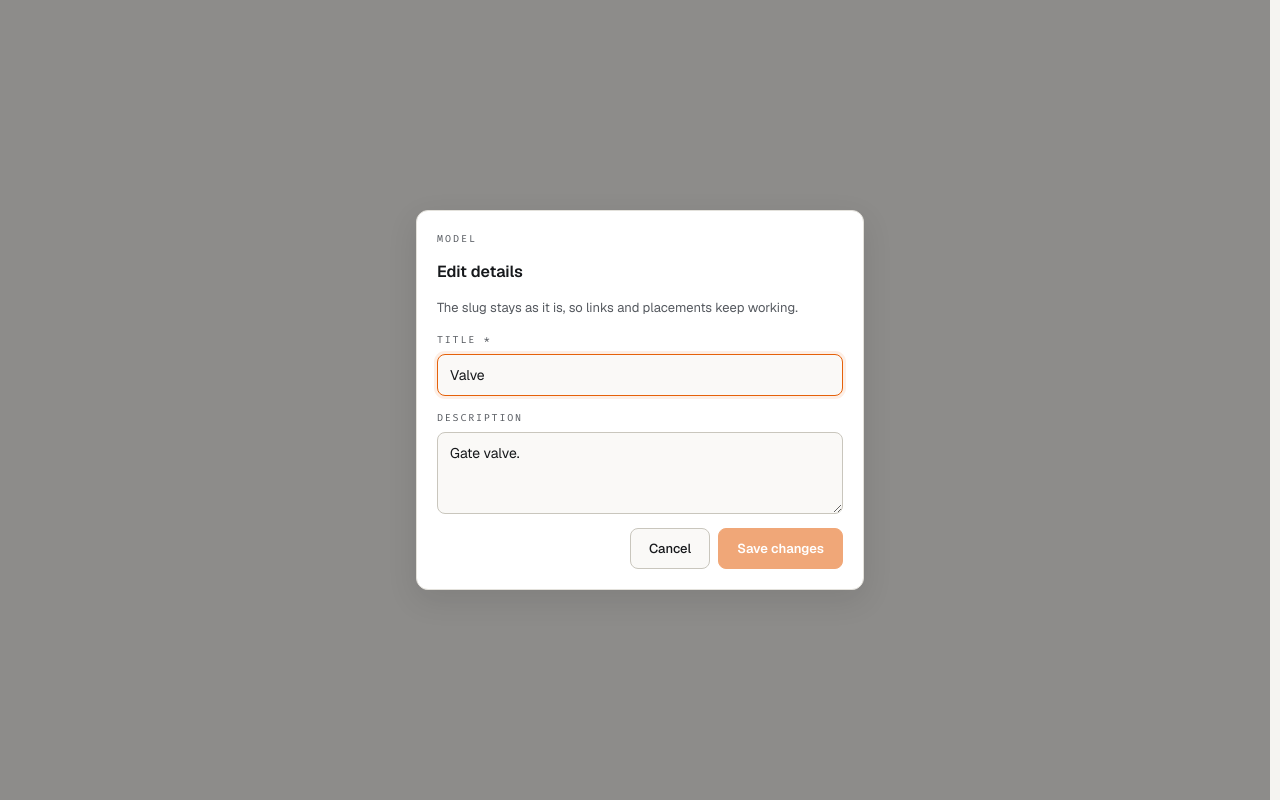
Test: EditDetailsDialog › keeps the dialog open and says why when the gateway refuses
Type "!" into the field labelled "Title *" at (640, 375), box [437, 354, 843, 396]
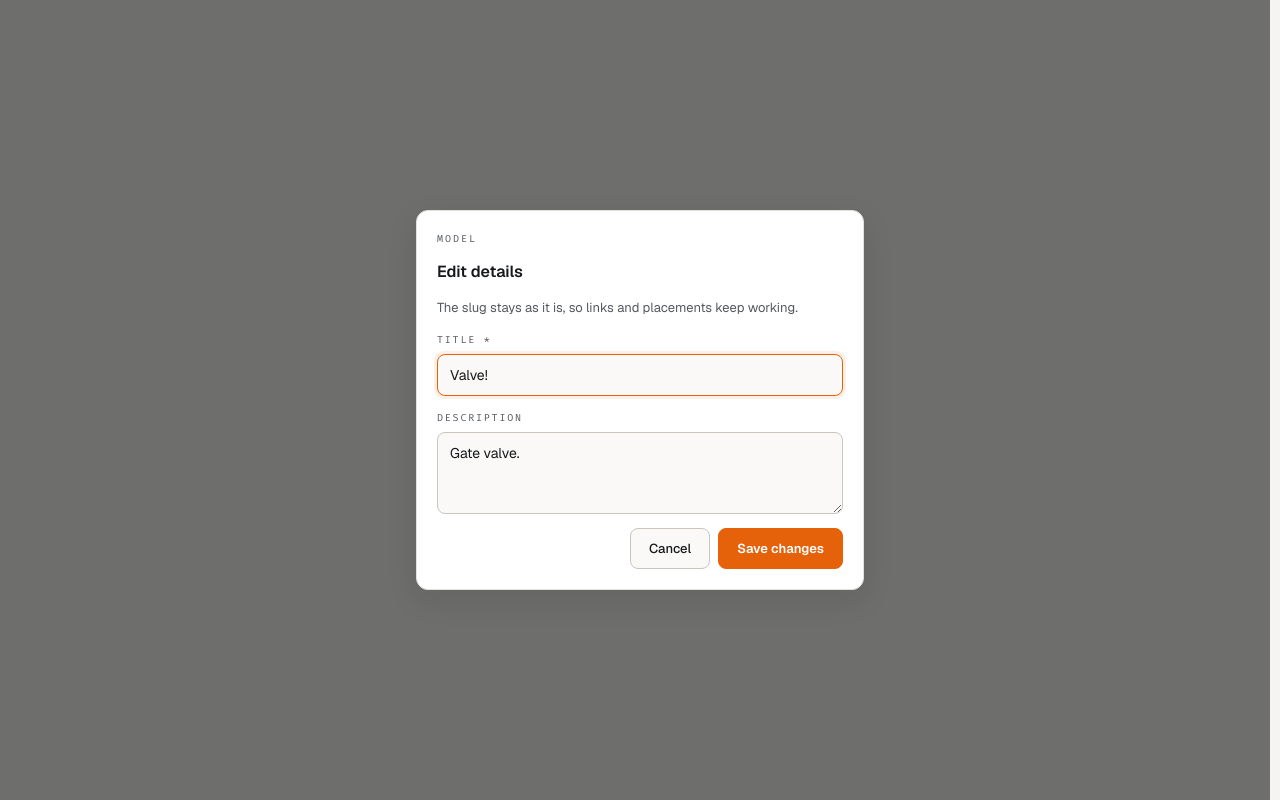
Click the button "Save changes" at (781, 549), box [718, 528, 843, 569]
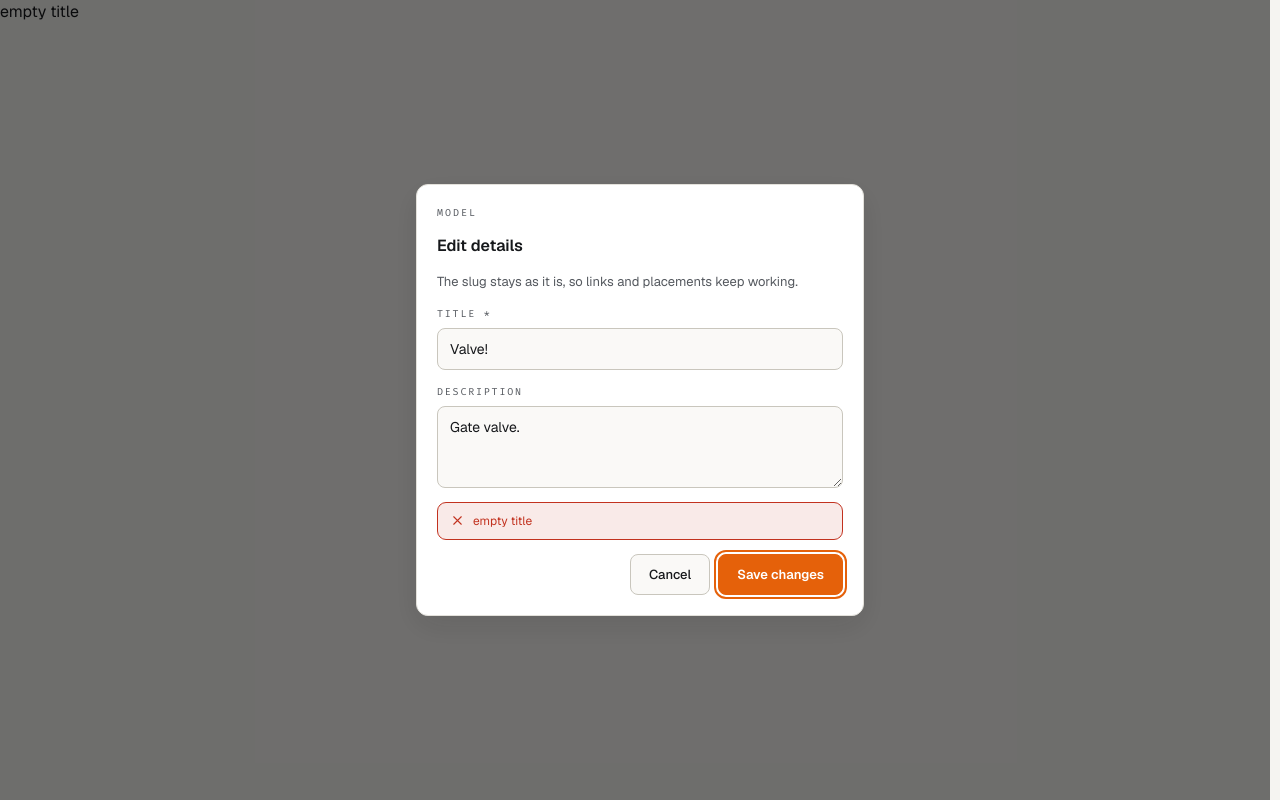
Expected: the field labelled "Title *" holds "Valve!", [437, 328, 843, 370]
Expected: the message reads "empty title", [473, 513, 532, 529]
Expected: the text "empty title" is shown 2 times, [473, 513, 532, 529]; [0, 1, 79, 22]
